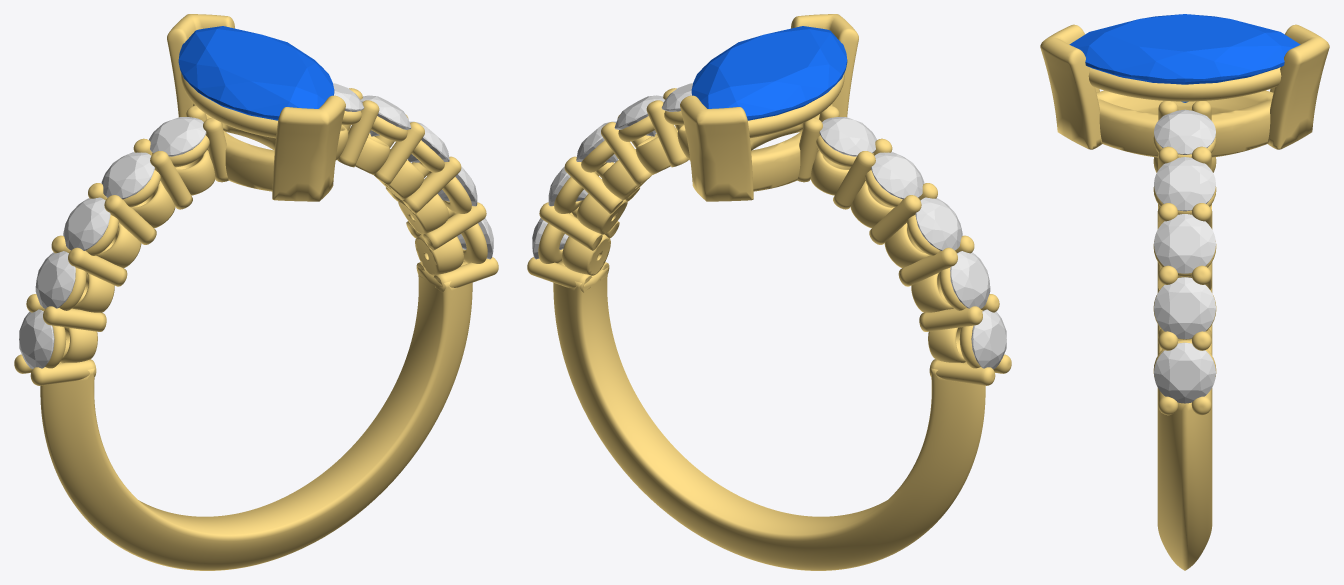
Rendered from bluesapphire-marquise-yellowgold-protectededges2prongs-knifeedge-11stone.glb.
The picture shows the model from 3 angles, left to right: view 1: azimuth 30°, elevation 25°; view 2: azimuth 150°, elevation 25°; view 3: azimuth 270°, elevation 25°; orthographic projection.
Visible parts, largest first — view 1: metal, stone, side.002, side.003, side.001, side.004, side, side.008; view 2: metal, stone, side.002, side.003, side.001, side.004, side, side.008; view 3: metal, stone, side.006, side.005, side.007, side.008, side.009.
Boxes of the visible parts, left/top/right/bottom form: metal: left=14, top=14, right=498, bottom=570; stone: left=178, top=26, right=334, bottom=120; side.002: left=63, top=197, right=110, bottom=250; side.003: left=101, top=152, right=154, bottom=199; side.001: left=35, top=251, right=75, bottom=308; side.004: left=149, top=117, right=206, bottom=156; side: left=19, top=309, right=54, bottom=369; side.008: left=361, top=95, right=411, bottom=136; metal: left=527, top=14, right=1011, bottom=570; stone: left=691, top=26, right=847, bottom=120; side.002: left=915, top=197, right=962, bottom=250; side.003: left=871, top=152, right=924, bottom=199; side.001: left=950, top=251, right=990, bottom=308; side.004: left=819, top=117, right=876, bottom=156; side: left=971, top=309, right=1006, bottom=369; side.008: left=614, top=95, right=664, bottom=136; metal: left=1040, top=24, right=1329, bottom=570; stone: left=1069, top=14, right=1300, bottom=102; side.006: left=1154, top=277, right=1215, bottom=339; side.005: left=1154, top=342, right=1215, bottom=403; side.007: left=1154, top=214, right=1215, bottom=273; side.008: left=1154, top=157, right=1215, bottom=211; side.009: left=1154, top=109, right=1215, bottom=154.
Size of the model in its own units: 21.97 by 22.93 by 11.69.
